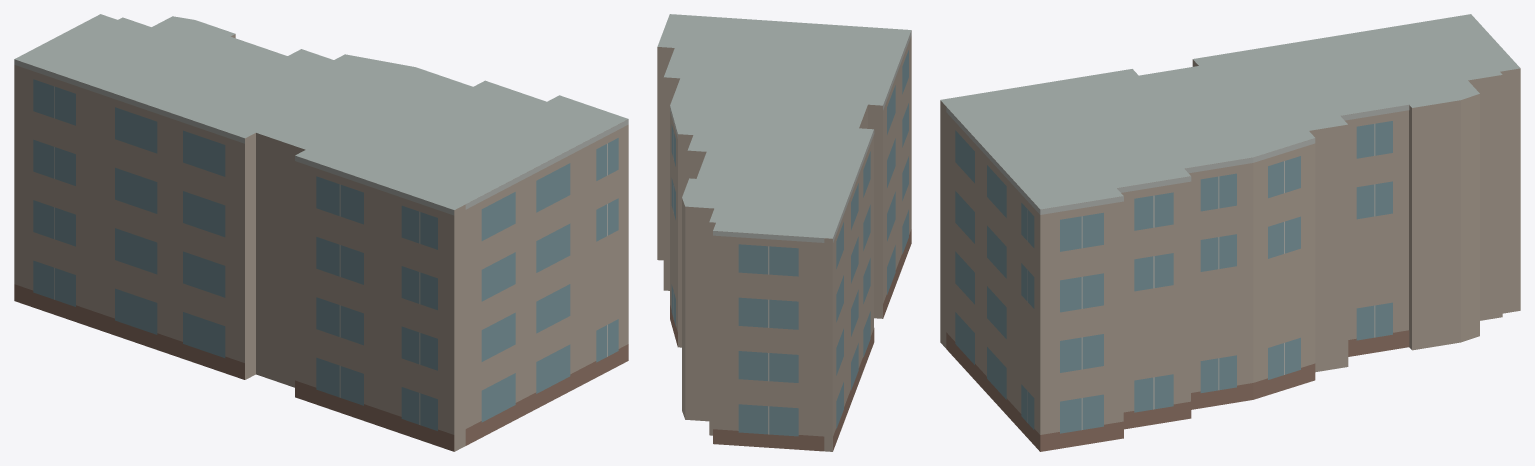
File: survey-upis-32843984.glb
3 views of the same model, side by side, from view 1: azimuth 30°, elevation 25°; view 2: azimuth 150°, elevation 25°; view 3: azimuth 270°, elevation 25° (orthographic). The views are drawn at different scales.
Visible parts, largest first — view 1: survey-upis-32843984.tmp; view 2: survey-upis-32843984.tmp; view 3: survey-upis-32843984.tmp.
Boxes of the visible parts, x1,y1,x2,y2 form: survey-upis-32843984.tmp: (14,14,628,451); survey-upis-32843984.tmp: (657,14,911,451); survey-upis-32843984.tmp: (940,14,1520,451).
Size of the model in its own units: 18.69 by 10.8 by 23.45.
